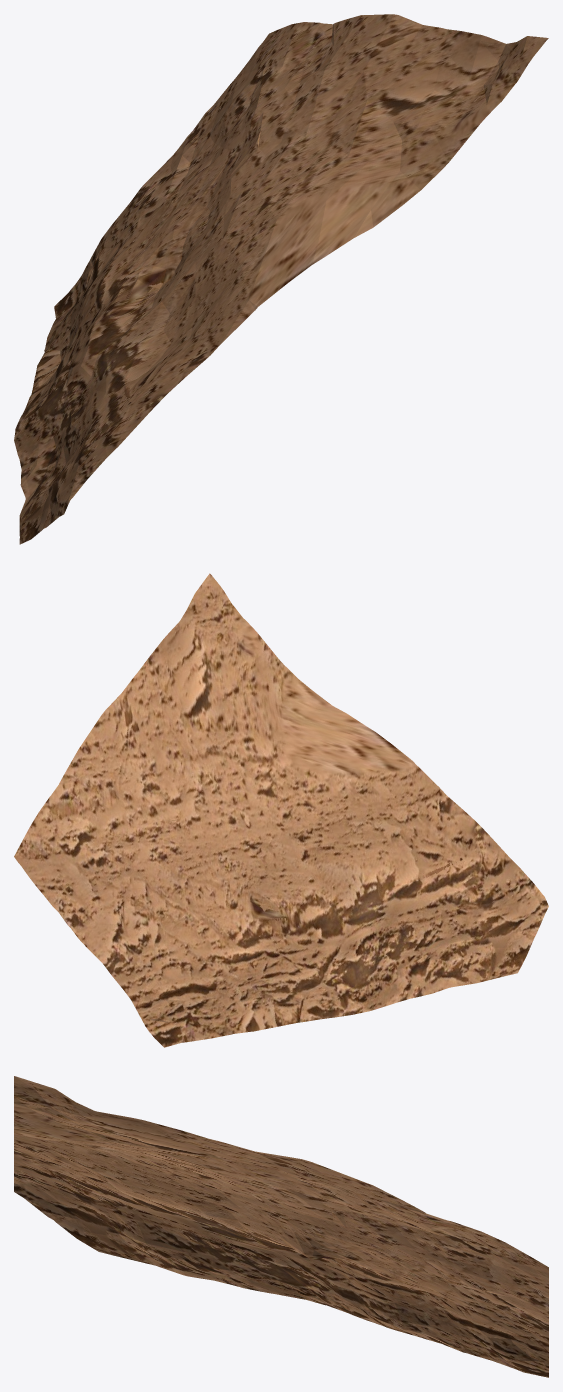
3 renders of one model, top to bottom at view 1: azimuth 30°, elevation 25°; view 2: azimuth 150°, elevation 25°; view 3: azimuth 270°, elevation 25°, orthographic. The views are drawn at different scales.
Bounding box in the file's own units: 1.04 × 0.866 × 1.04.
Materials: 3 (3 with a texture image).
